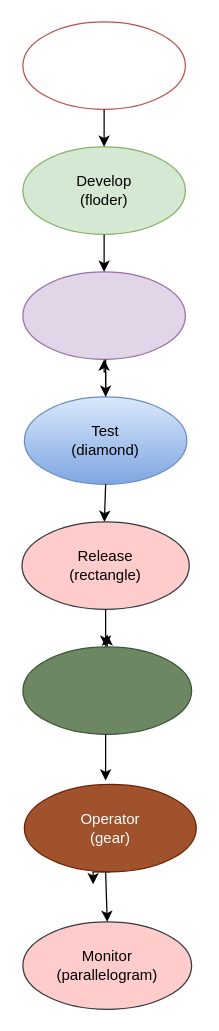
Image size: 219x1031. Some labels were removed from this diagram. The box of each missing label's shape, as (x1, y1, x2, y2) in pixels:
Build (gear): (22, 271, 185, 359)
Deploy (cloud): (22, 646, 192, 734)
Plane (rectangle): (22, 21, 185, 109)
